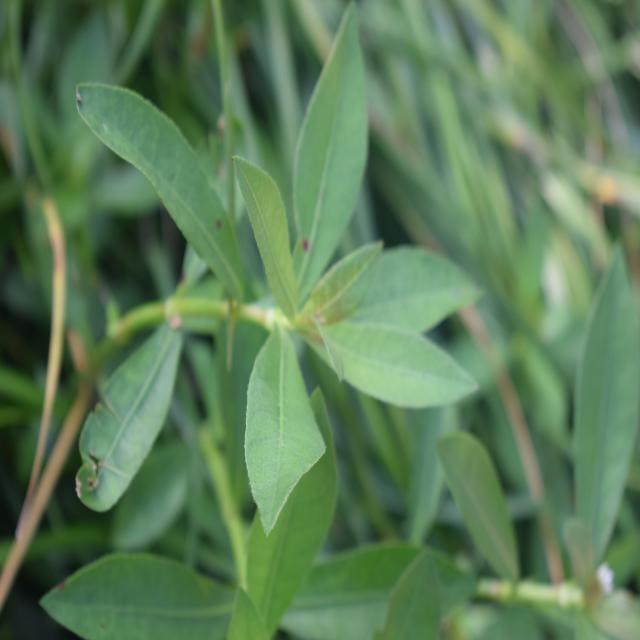Alligatorweed: (83, 28, 456, 491)
